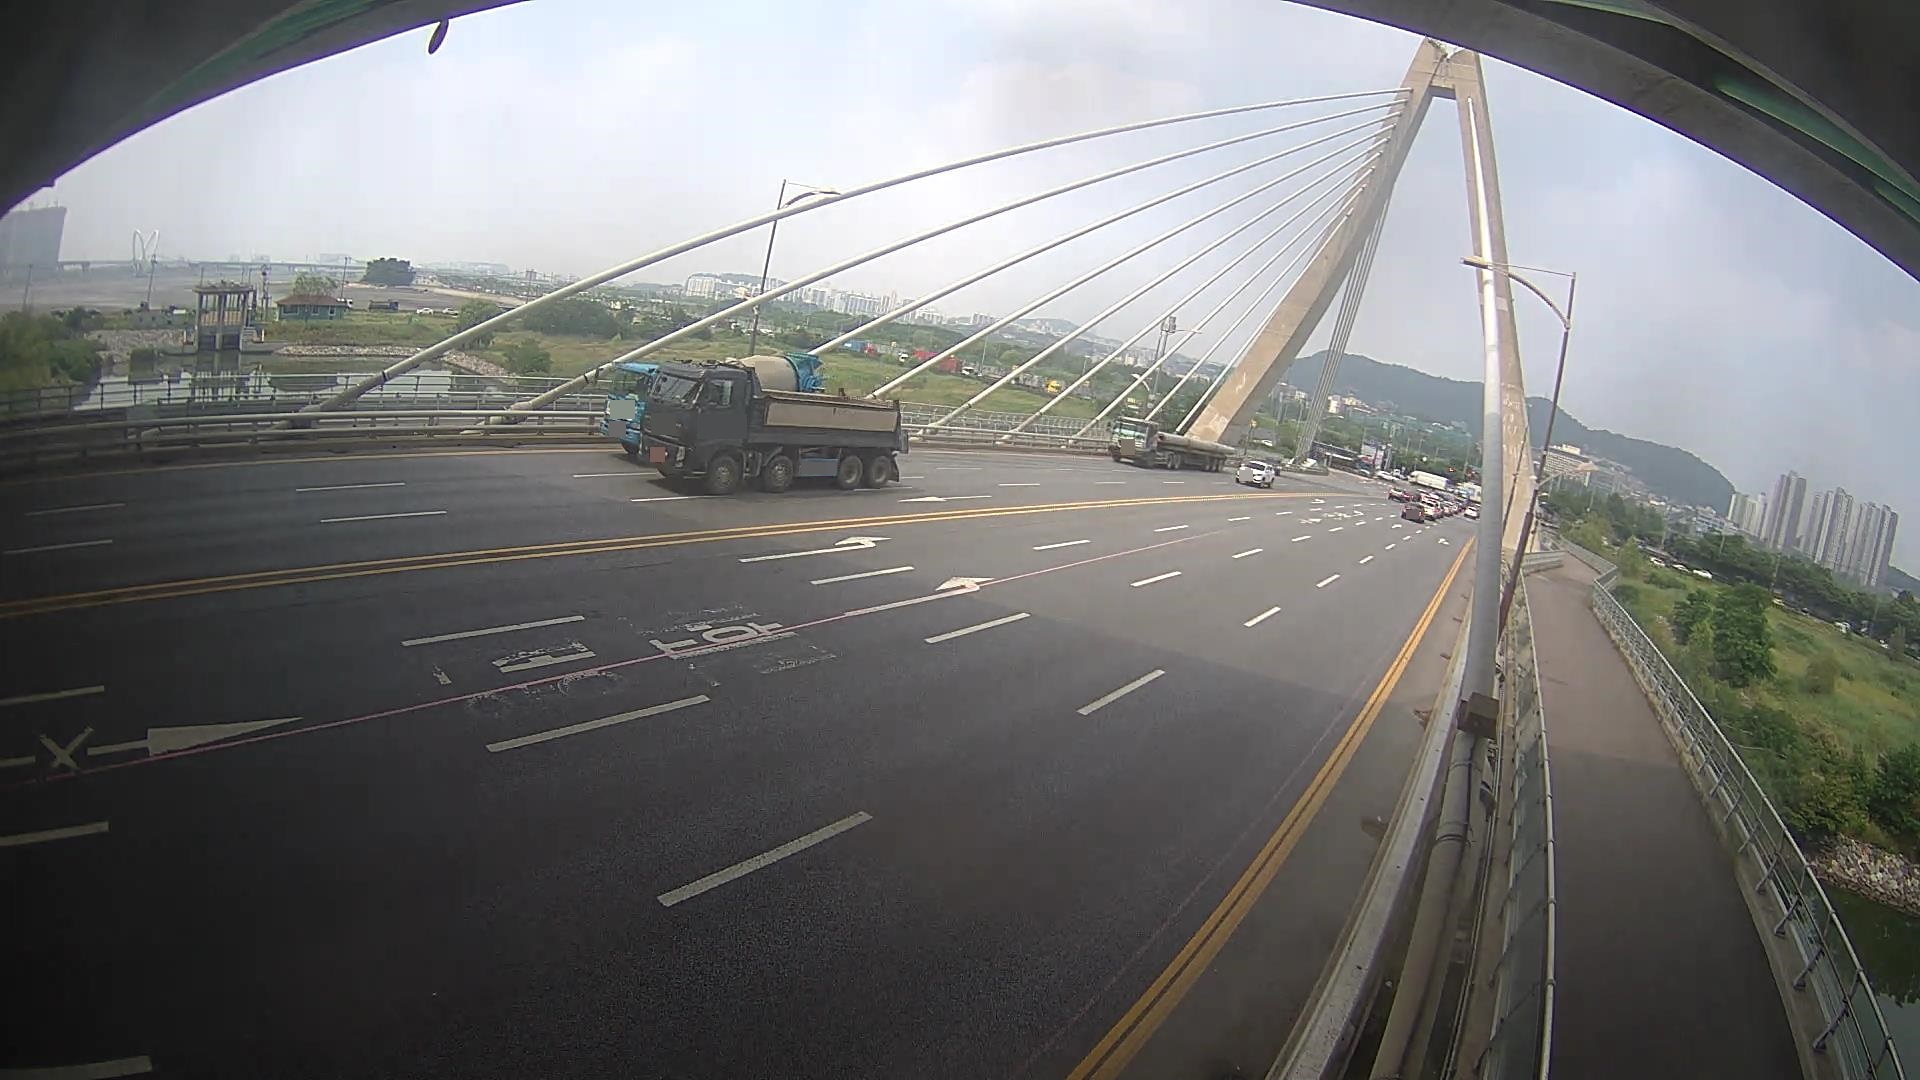정상차량: (639, 359, 909, 496)
